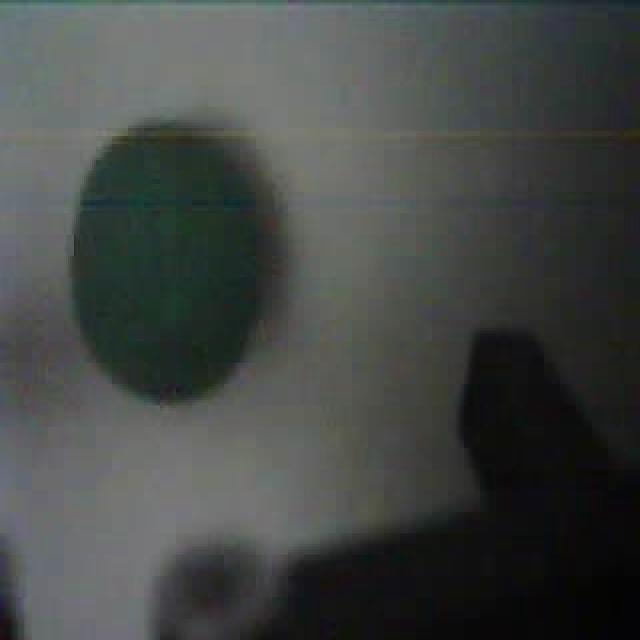green_ball: (66, 117, 288, 408)
